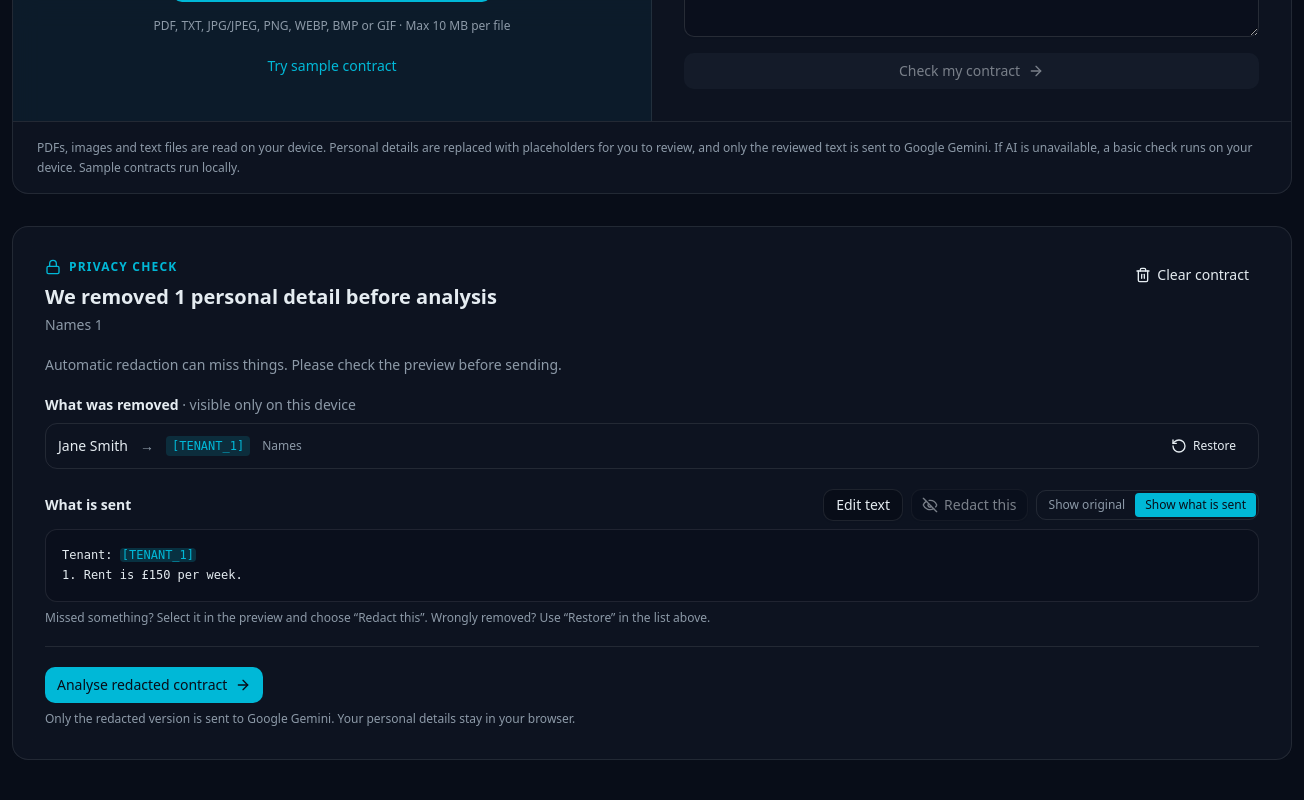
Test case: reads PDF text locally and waits for review before any AI request
This screenshot has width=1304, height=800.
(page scrolled)
Expected: the button "Edit text" is shown, [823,489,903,521]
Step 1. Click the button "Analyse redacted contract" → (154, 685), box [45,667,263,703]
(page scrolled)
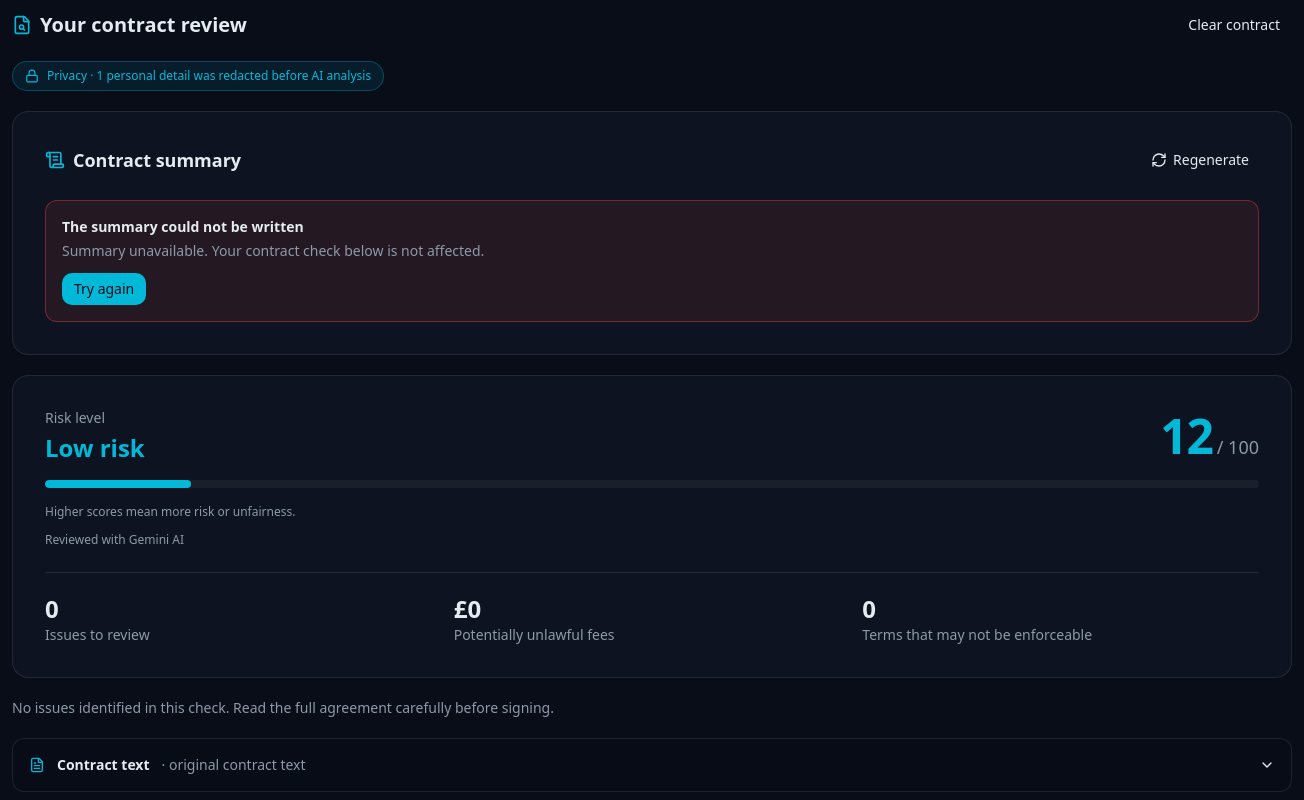
Now the element "Your contract review" is shown
Now the button "Edit text" is gone
